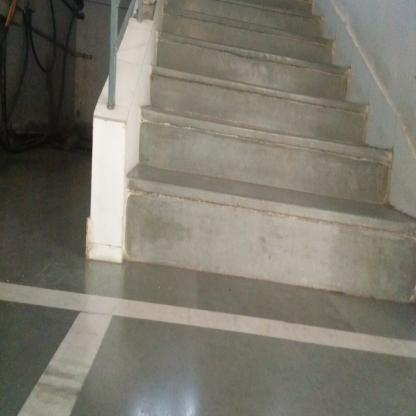stairs: (156, 42, 330, 298)
